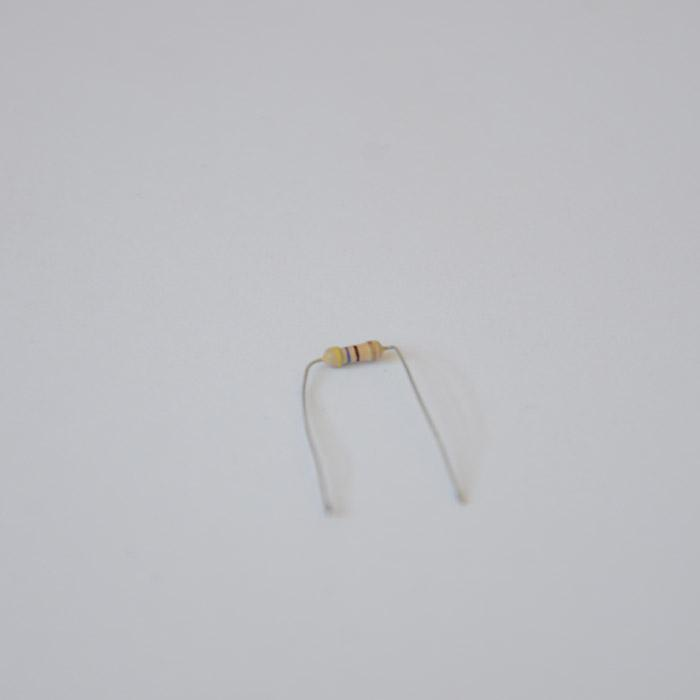resistor: (339, 311, 368, 379)
